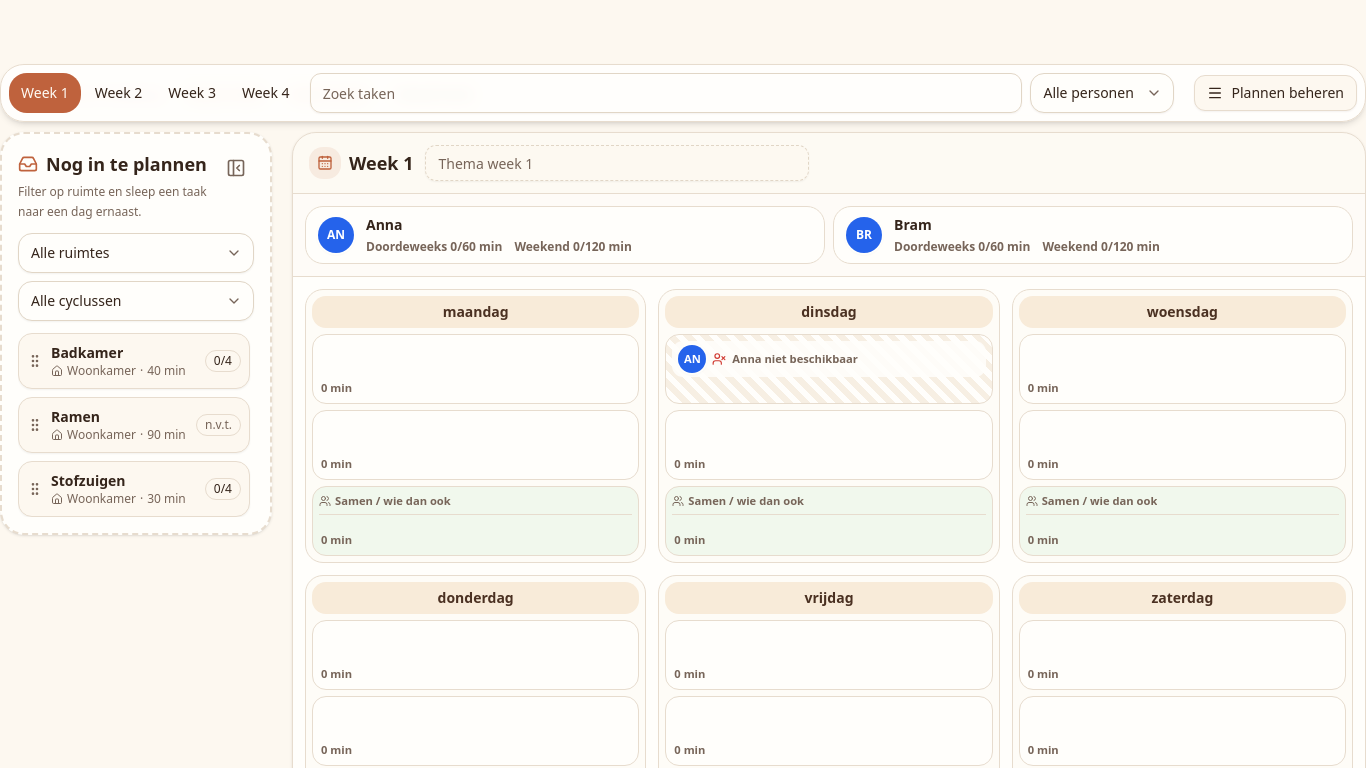
PlannerPage — budgets and pool › filters the task pool by cycle
The width and height of the screenshot is (1366, 768).
Step 1. Select "1x per kwartaal" in the dropdown named "Filter taken op cyclus" → x=136, y=301, box [18,281,254,321]
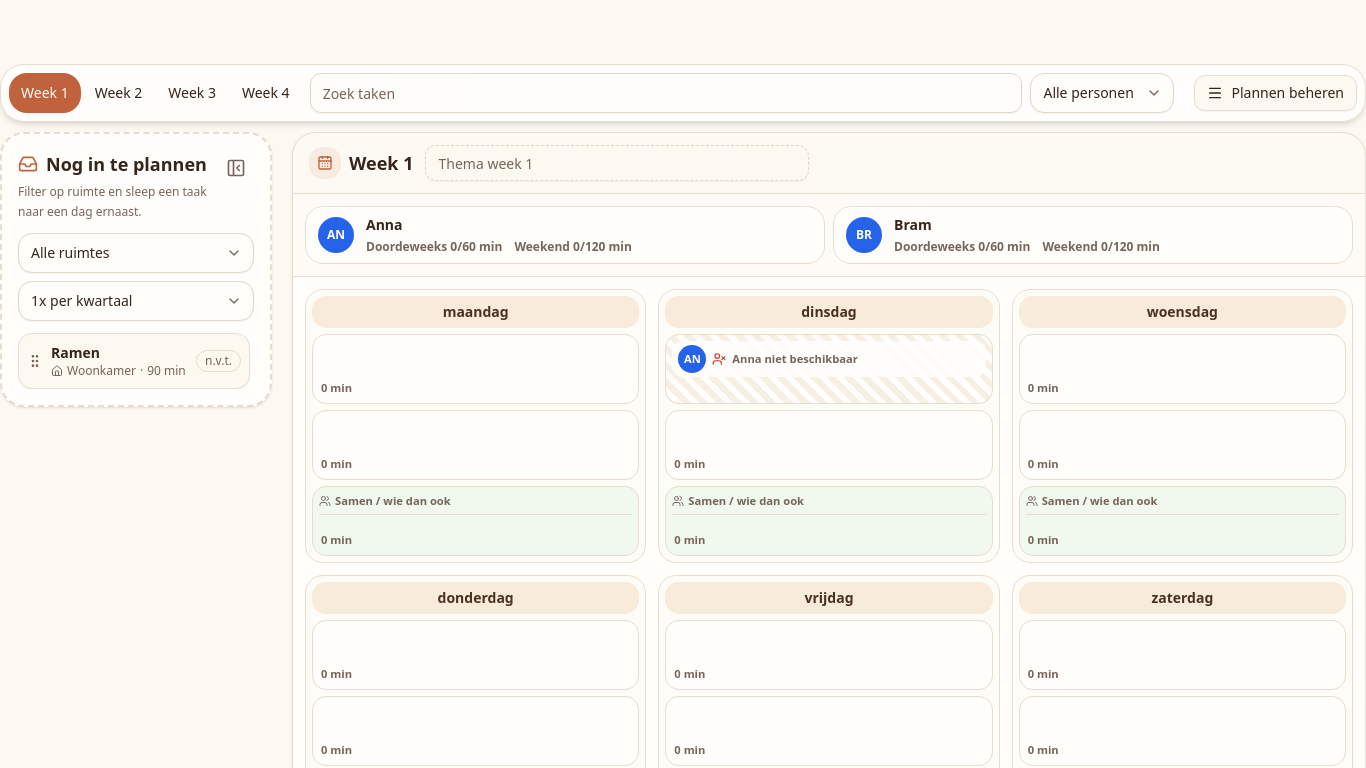
Check: the text "Ramen" is shown, box [51,343,100,362]
Check: the button "Badkamer" is gone
Check: the button "Stofzuigen" is gone
